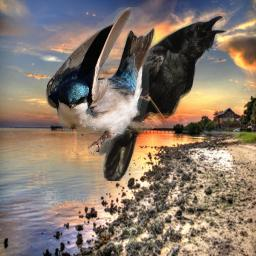Crow: (96, 12, 229, 181)
Swallow: (45, 7, 156, 156)
